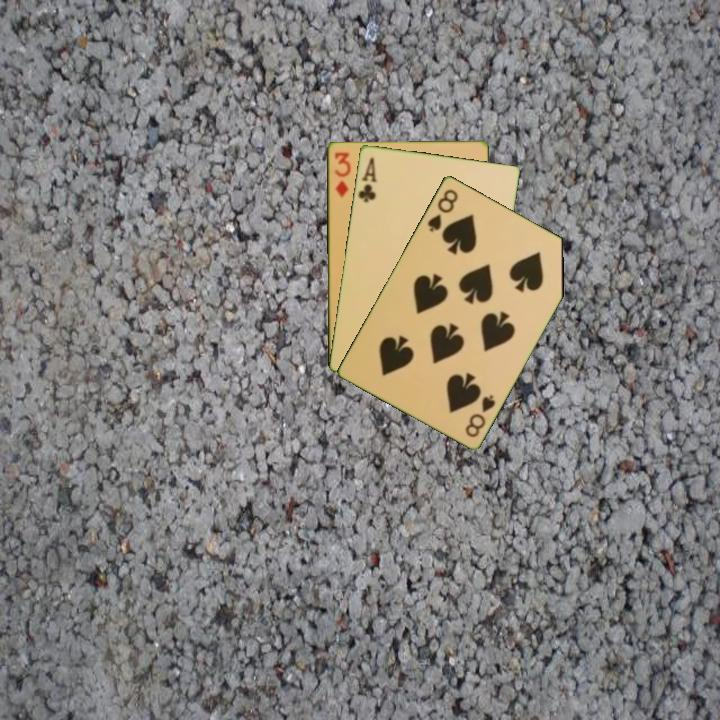3d: (331, 149, 353, 200)
8s: (424, 185, 461, 234), (461, 391, 498, 440)
Ac: (355, 153, 379, 205)
